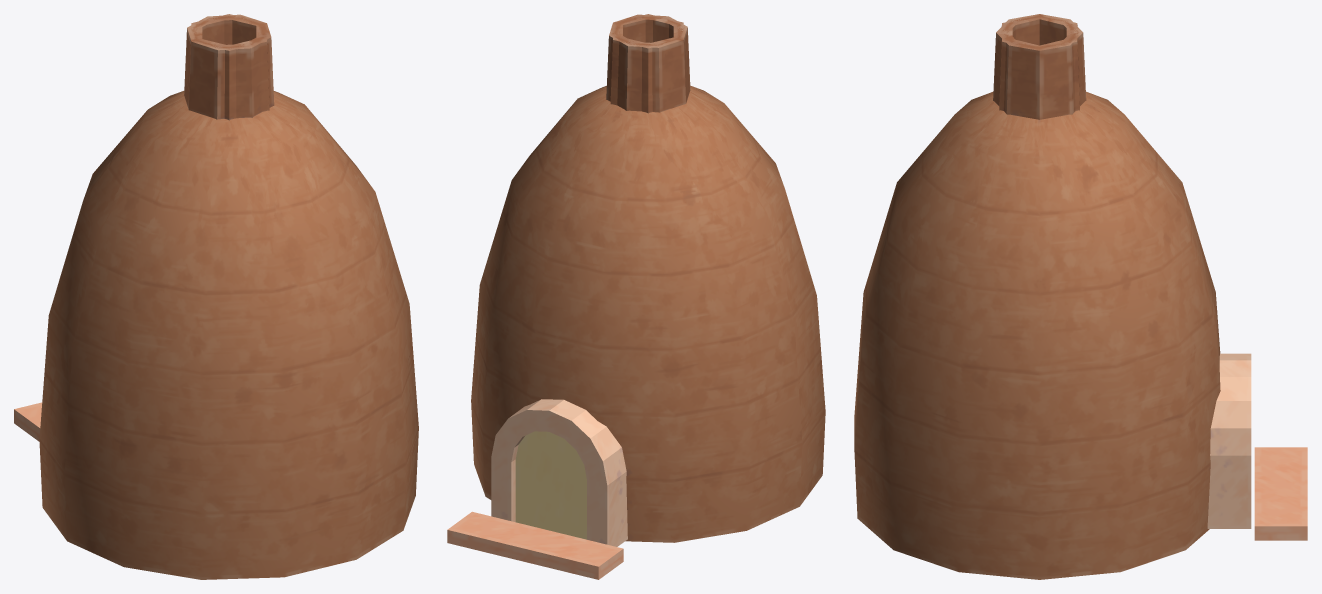
File: kiln.bundle.fbx
3 views of the same model, side by side, from view 1: azimuth 30°, elevation 25°; view 2: azimuth 150°, elevation 25°; view 3: azimuth 270°, elevation 25° (orthographic). The views are drawn at different scales.
Parts seen in each view (by area): view 1: kiln, kiln_low; view 2: kiln, kiln_low; view 3: kiln, kiln_low.
Part boxes in pixels (bbox=[...]): kiln: bbox=[15, 14, 418, 579]; kiln_low: bbox=[14, 14, 274, 441]; kiln: bbox=[449, 14, 825, 576]; kiln_low: bbox=[447, 14, 683, 579]; kiln: bbox=[854, 14, 1304, 579]; kiln_low: bbox=[995, 14, 1307, 540].
Bounding box in the file's own units: 6.1 × 8.3 × 7.27.
Materials: 1 (1 with a texture image).
